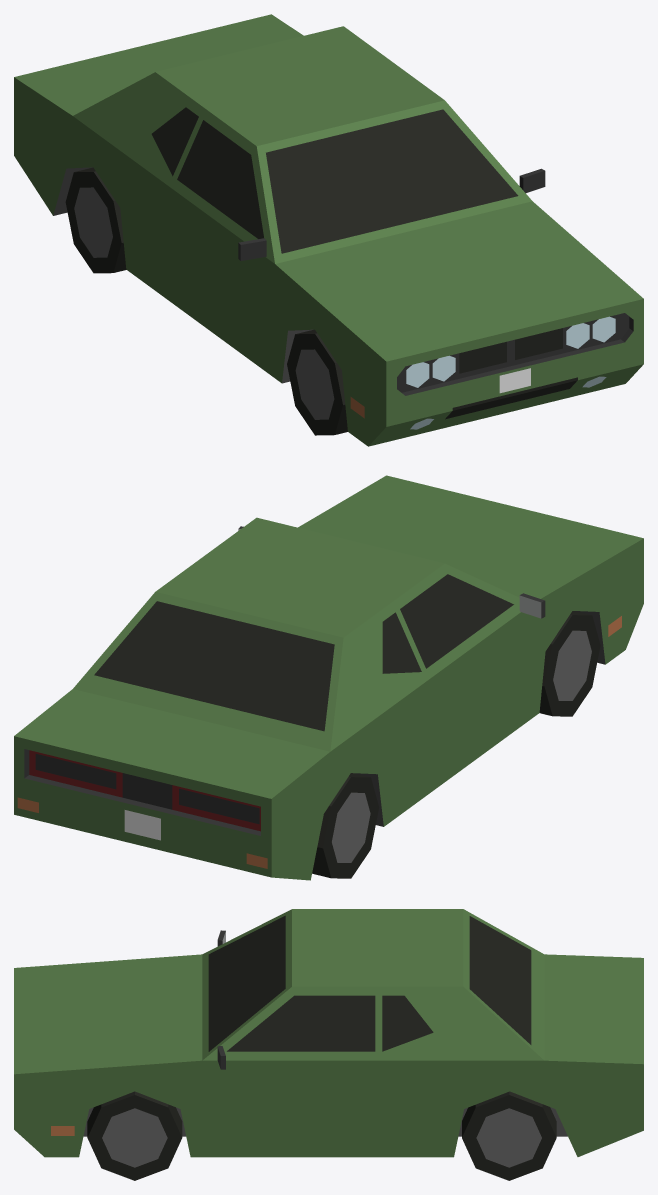
File: Veh_Muscle_Car_01_Green.glb
The picture shows the model from 3 angles, top to bottom: view 1: azimuth 30°, elevation 25°; view 2: azimuth 150°, elevation 25°; view 3: azimuth 270°, elevation 25°; orthographic projection. The views are drawn at different scales.
Parts seen in each view (by area): view 1: Muscle_Car_01_Green, Wheel_FR, Wheel_RR; view 2: Muscle_Car_01_Green, Wheel_RR, Wheel_FR; view 3: Muscle_Car_01_Green, Wheel_FL, Wheel_RL.
Part boxes in pixels (x1=…): Muscle_Car_01_Green: x1=14, y1=14, x2=643, y2=446; Wheel_FR: x1=287, y1=329, x2=347, y2=435; Wheel_RR: x1=65, y1=167, x2=126, y2=273; Muscle_Car_01_Green: x1=14, y1=475, x2=643, y2=880; Wheel_RR: x1=312, y1=773, x2=378, y2=878; Wheel_FR: x1=539, y1=611, x2=600, y2=716; Muscle_Car_01_Green: x1=14, y1=909, x2=643, y2=1157; Wheel_FL: x1=87, y1=1091, x2=182, y2=1180; Wheel_RL: x1=462, y1=1091, x2=556, y2=1180.
Bounding box in the file's own units: 1.22 × 0.8156 × 2.59.
1 material, 1 textured.
